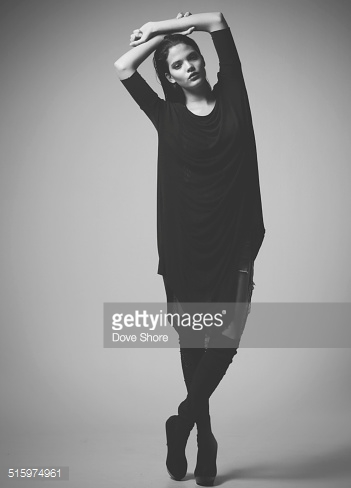em pe: (114, 8, 271, 424)
